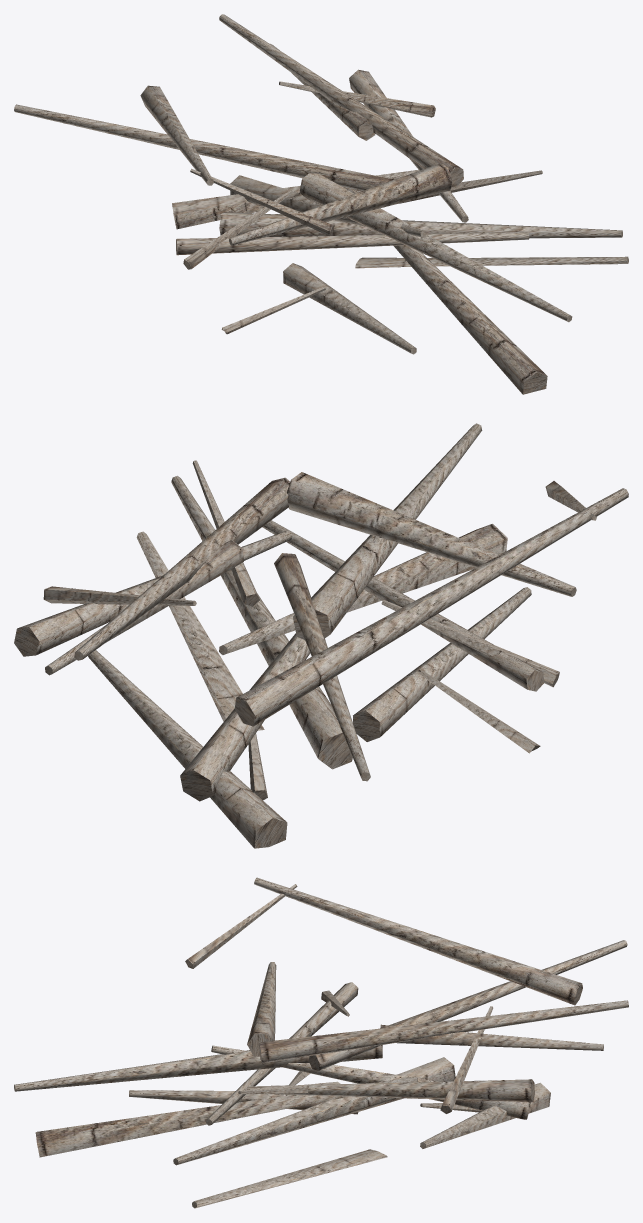
The model's file is dry-branch-pile-v01.glb.
3 renders of one model, top to bottom at view 1: azimuth 30°, elevation 25°; view 2: azimuth 150°, elevation 25°; view 3: azimuth 270°, elevation 25°, orthographic. The views are drawn at different scales.
Visible parts, largest first — view 1: branches; view 2: branches; view 3: branches.
Boxes of the visible parts, x1,y1,x2,y2 form: branches: [14, 14, 628, 394]; branches: [14, 423, 628, 848]; branches: [14, 877, 628, 1208].
Size of the model in its own units: 1.74 by 0.775 by 2.46.
Materials: 1 (1 with a texture image).
